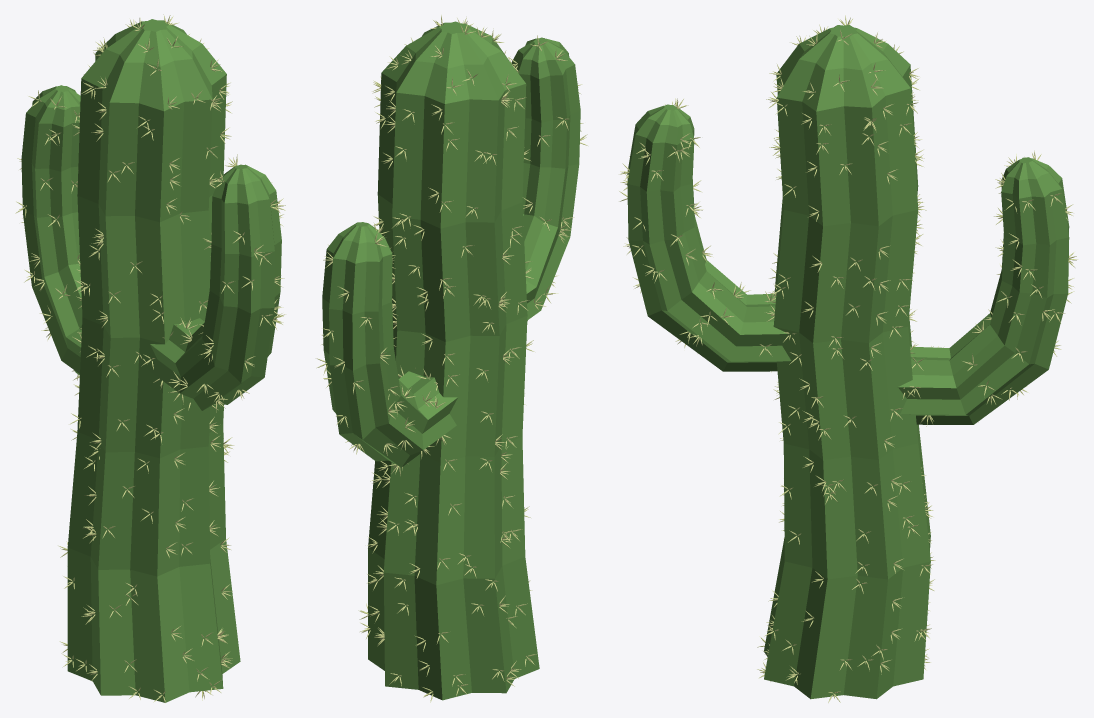
File: Cactus_Tree_001.fbx
3 renders of one model, left to right at view 1: azimuth 30°, elevation 25°; view 2: azimuth 150°, elevation 25°; view 3: azimuth 270°, elevation 25°, orthographic.
Visible parts, largest first — view 1: Cactus_Tree_001; view 2: Cactus_Tree_001; view 3: Cactus_Tree_001.
Boxes of the visible parts, x1,y1,x2,y2 form: Cactus_Tree_001: [15, 14, 285, 702]; Cactus_Tree_001: [316, 15, 587, 702]; Cactus_Tree_001: [619, 15, 1078, 702].
Size of the model in its own units: 110 by 448 by 287.
